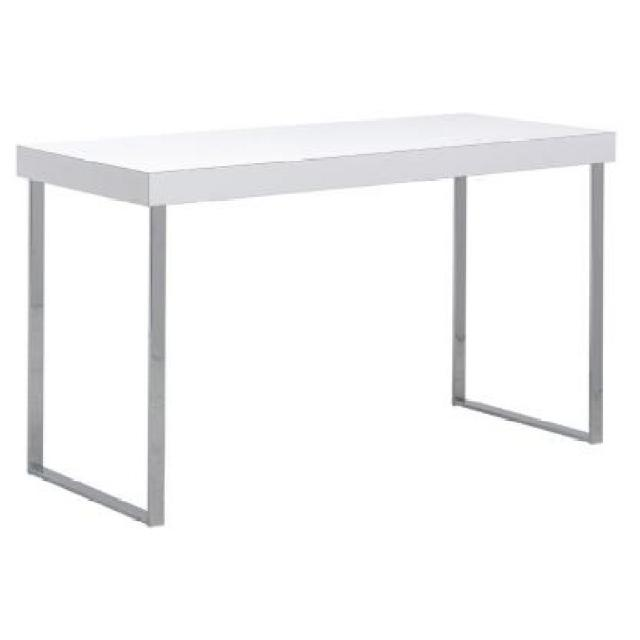table: (5, 108, 628, 527)
